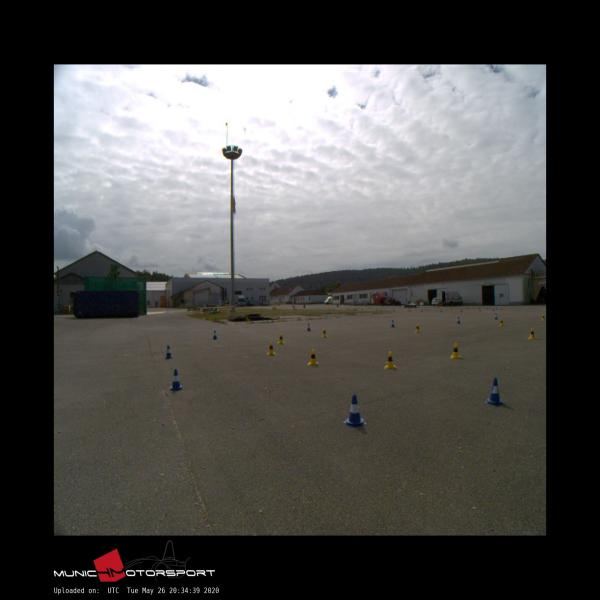blue_cone: (343, 394, 366, 426), (484, 377, 504, 406), (169, 369, 184, 390), (164, 346, 173, 358), (212, 330, 218, 338), (306, 323, 310, 331), (391, 320, 395, 327), (457, 317, 460, 323), (494, 314, 497, 320)
yellow_cone: (383, 351, 396, 368), (307, 349, 318, 365), (450, 342, 461, 358), (267, 341, 275, 355), (528, 328, 536, 338), (278, 332, 284, 344), (321, 328, 327, 337), (414, 323, 420, 332), (499, 318, 504, 327), (542, 314, 546, 321)
